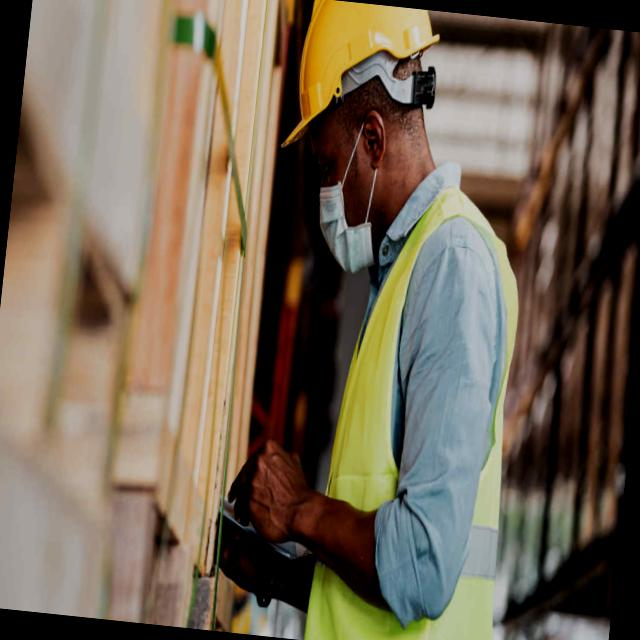helmet: (267, 0, 452, 180)
no-goggles: (308, 106, 377, 205)
vest: (296, 164, 547, 640)
